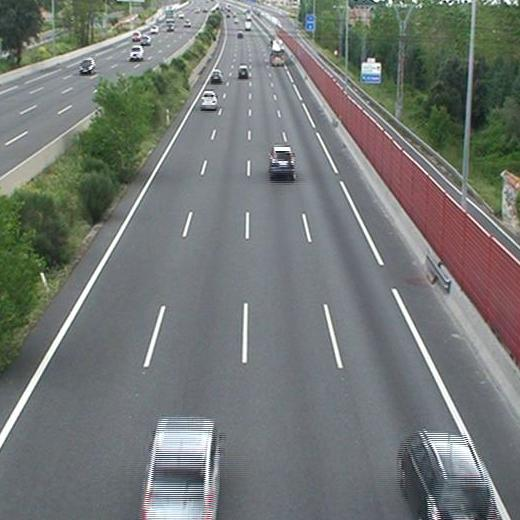car: (399, 435, 496, 520), (142, 427, 218, 520), (270, 147, 295, 177), (200, 90, 218, 109), (210, 69, 222, 83), (238, 67, 249, 80)
tank-truck: (270, 37, 284, 66)
